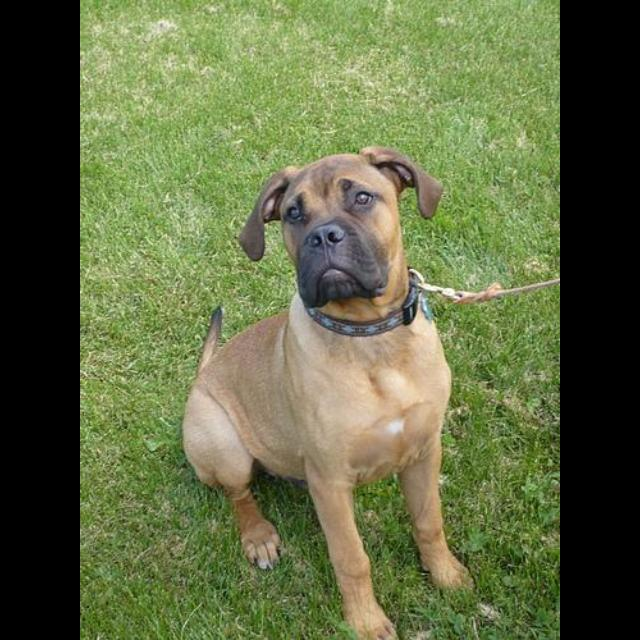bullmastiff: (181, 145, 483, 640)
